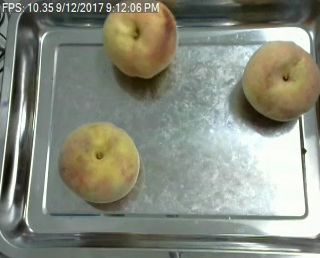Peach: (58, 121, 140, 205), (241, 40, 319, 121), (102, 1, 179, 79)
